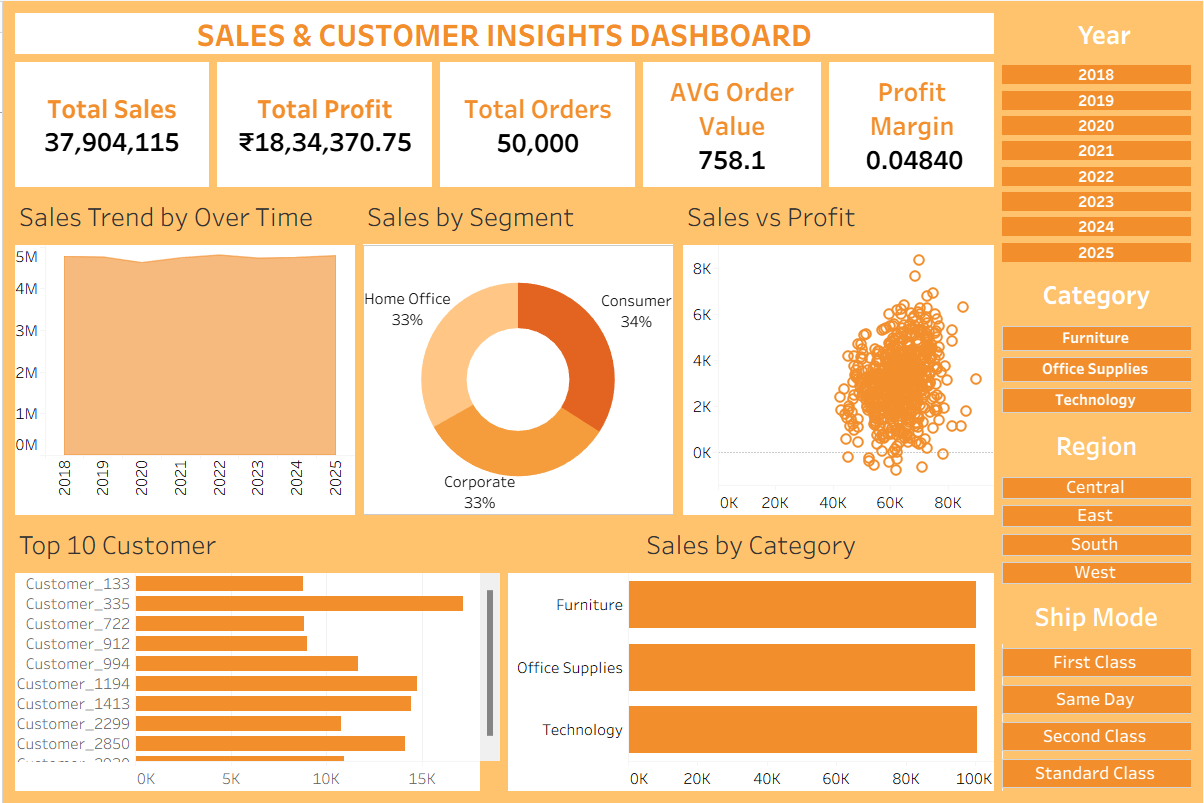

What the dashboard file says about the page in this screenshot:
{"tool":"tableau","page":{"name":"Dashboard 1","canvas":[1000,1000],"units":"permille","ordinal":0},"visuals":[{"type":"title","box":[6.7,10,822.5,61.1]},{"type":"worksheet","title":"Year Filter","mark":"Bar","rows":["Order Date"],"cols":["Calculation_2421172127567873"],"box":[829.2,10,164.2,324.2]},{"type":"worksheet","title":"Total Sales","mark":"Automatic","box":[6.7,71.1,168,166.3]},{"type":"worksheet","title":"Total Profit","mark":"Automatic","box":[174.7,71.1,186.1,166.3]},{"type":"worksheet","title":"Total Orders","mark":"Automatic","box":[360.8,71.1,169.2,166.3]},{"type":"worksheet","title":"AVG order value","mark":"Automatic","box":[530,71.1,155,166.3]},{"type":"worksheet","title":"Profit Margin","mark":"Automatic","box":[685,71.1,143.9,166.3]},{"type":"worksheet","title":"Sales Trend by Over Time","mark":"Area","rows":["Sales"],"cols":["Order Date"],"box":[6.7,237.4,290.4,408.4]},{"type":"worksheet","title":"Sales by Segment","mark":"Pie","rows":["Calculation_2928321901178881","Calculation_2928321901207555"],"box":[297,237.4,266,408.4]},{"type":"worksheet","title":"Sales vs Profit","mark":"Shape","rows":["Profit"],"cols":["Sales"],"box":[563.1,237.4,266.1,408.4]},{"type":"worksheet","title":"category Filter","mark":"Automatic","rows":["Category"],"cols":["Calculation_2421172132753413"],"box":[829.2,334.2,164.2,188.3]},{"type":"worksheet","title":"Region Filter","mark":"Automatic","rows":["Region"],"cols":["Calculation_2421172135301127"],"box":[829.2,522.5,164.2,213.2]},{"type":"worksheet","title":"Top 10 Customer","mark":"Automatic","rows":["Customer Name"],"cols":["Sales"],"box":[6.7,645.9,411.2,344.2]},{"type":"worksheet","title":"Sales by Category","mark":"Bar","rows":["Category"],"cols":["Quantity"],"box":[417.9,645.9,411.2,344.2]},{"type":"worksheet","title":"ShipMode Filter ","mark":"Automatic","rows":["Ship Mode"],"cols":["Calculation_2421172140113930"],"box":[829.2,735.7,164.2,254.3]}]}

Visuals, with their boxes on the dashboard's canvas, which has no fixed pixel size, in thousandths of its width and height (x1, y1, x2, y2). These are canvas units, not pixel positions in the 1204x803 screenshot, which may show the page scaled, cropped or inside an application window:
title: 7, 10, 829, 71
"Year Filter" worksheet (Bar marks): 829, 10, 993, 334
"Total Sales" worksheet: 7, 71, 175, 237
"Total Profit" worksheet: 175, 71, 361, 237
"Total Orders" worksheet: 361, 71, 530, 237
"AVG order value" worksheet: 530, 71, 685, 237
"Profit Margin" worksheet: 685, 71, 829, 237
"Sales Trend by Over Time" worksheet (Area marks): 7, 237, 297, 646
"Sales by Segment" worksheet (Pie marks): 297, 237, 563, 646
"Sales vs Profit" worksheet (Shape marks): 563, 237, 829, 646
"category Filter" worksheet: 829, 334, 993, 522
"Region Filter" worksheet: 829, 522, 993, 736
"Top 10 Customer" worksheet: 7, 646, 418, 990
"Sales by Category" worksheet (Bar marks): 418, 646, 829, 990
"ShipMode Filter " worksheet: 829, 736, 993, 990
